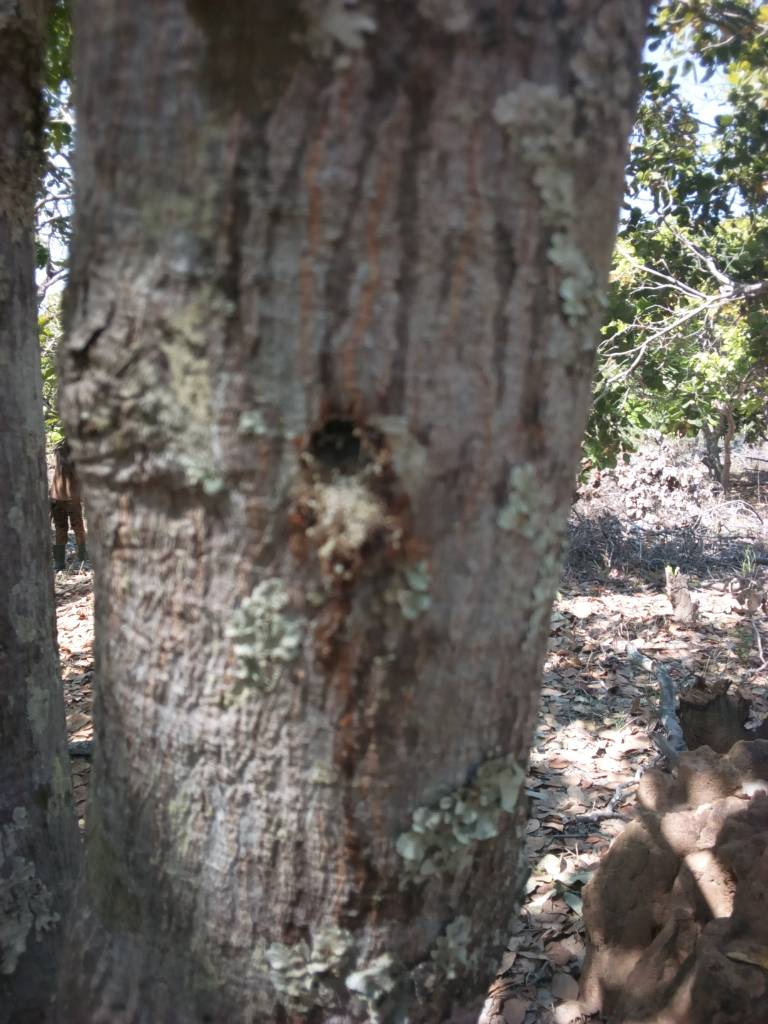Apate terebrans: (276, 394, 420, 507)
